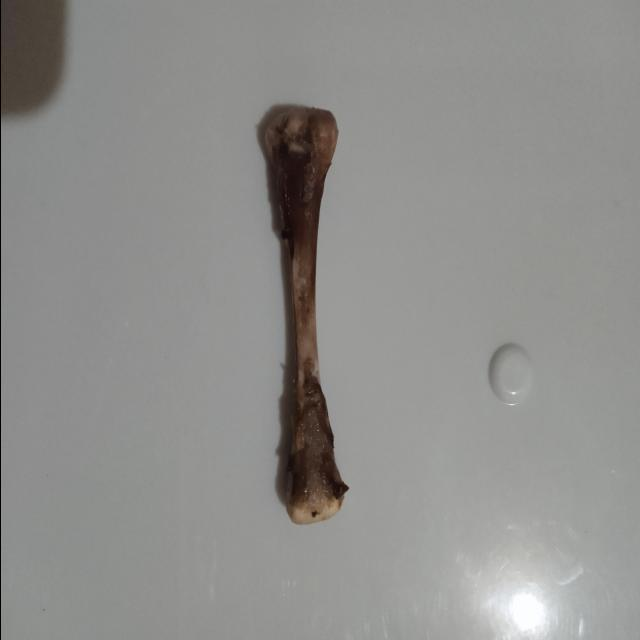bone: (256, 99, 348, 532)
